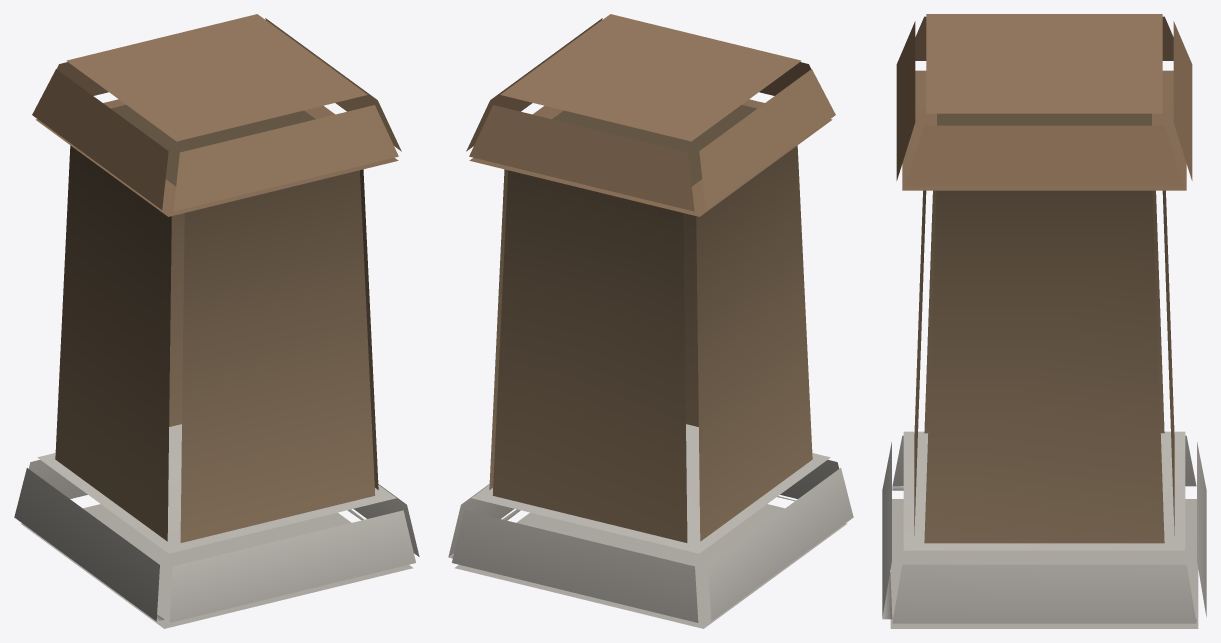
The model's file is wall_lv0_pillar_lod2.glb.
3 renders of one model, left to right at view 1: azimuth 30°, elevation 25°; view 2: azimuth 150°, elevation 25°; view 3: azimuth 270°, elevation 25°, orthographic. The views are drawn at different scales.
Parts seen in each view (by area): view 1: wall_lv0_pillar.001; view 2: wall_lv0_pillar.001; view 3: wall_lv0_pillar.001.
Boxes of the visible parts, box(x1,y1,x2,y2) form: wall_lv0_pillar.001: box(14, 14, 419, 628); wall_lv0_pillar.001: box(448, 14, 853, 628); wall_lv0_pillar.001: box(882, 14, 1206, 628).
Bounding box in the file's own units: 0.9703 × 1.65 × 0.9703.
